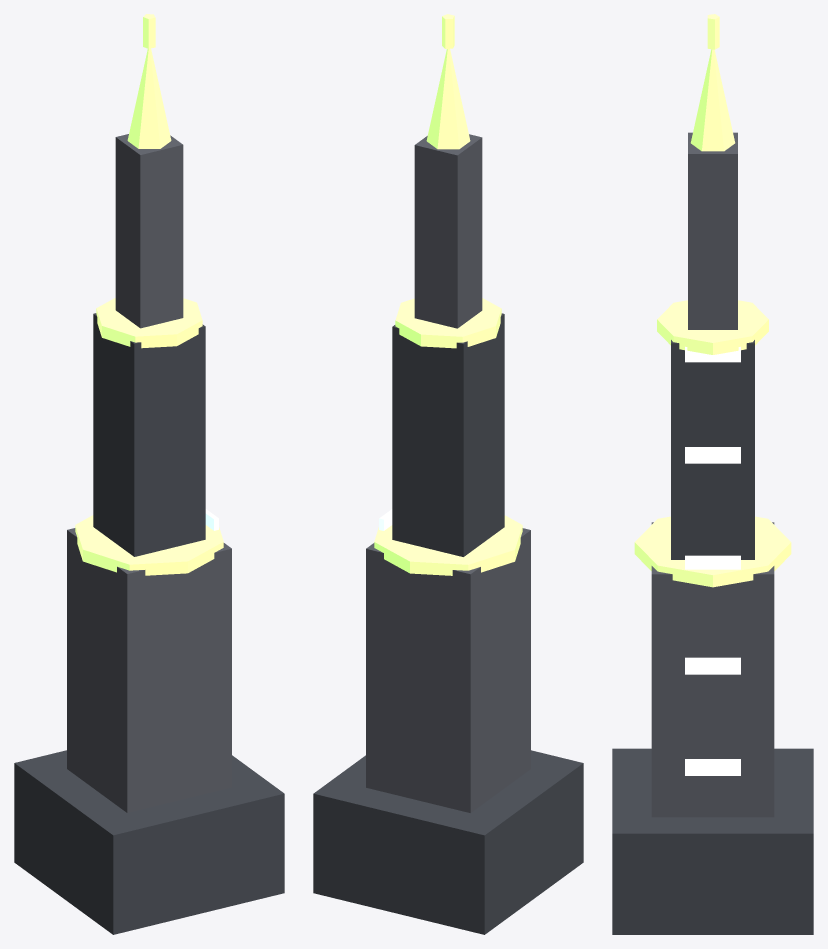
Rendered from needle.glb.
3 renders of one model, left to right at view 1: azimuth 30°, elevation 25°; view 2: azimuth 150°, elevation 25°; view 3: azimuth 270°, elevation 25°, orthographic.
Parts seen in each view (by area): view 1: needle; view 2: needle; view 3: needle.
Boxes of the visible parts, left/top/right/bottom form: needle: left=14, top=14, right=284, bottom=934; needle: left=313, top=14, right=583, bottom=934; needle: left=612, top=14, right=813, bottom=934.
Bounding box in the file's own units: 1.8 × 8.65 × 1.8.
